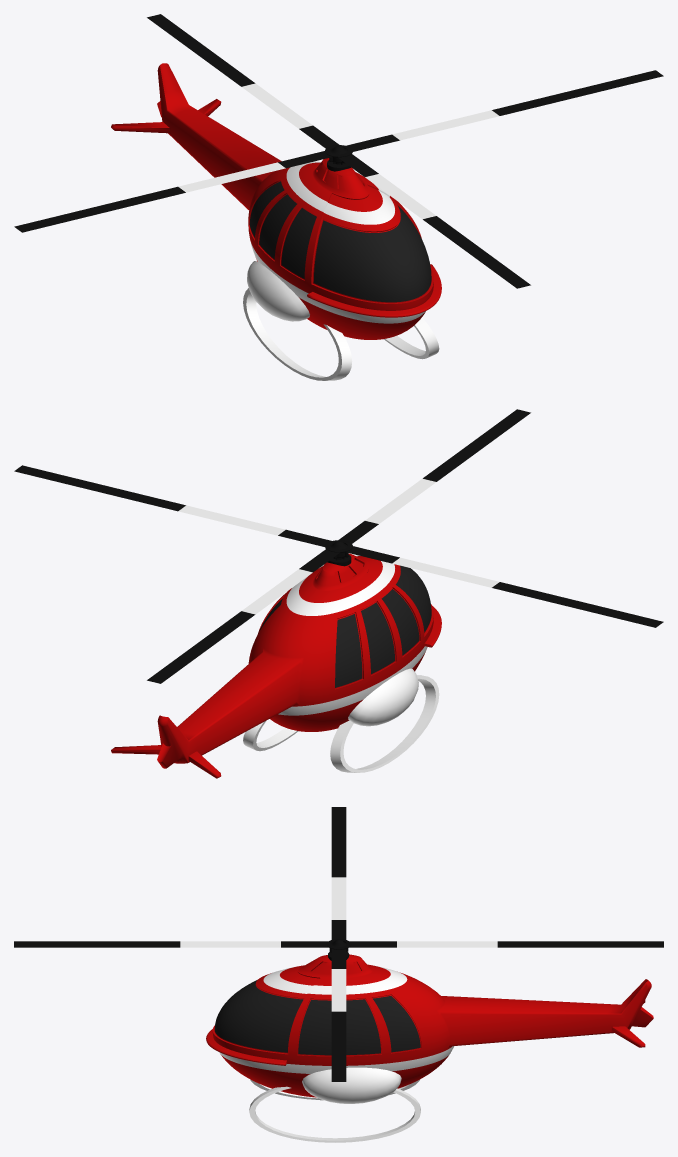
File: Helicopter.fbx
3 views of the same model, one above another, from view 1: azimuth 30°, elevation 25°; view 2: azimuth 150°, elevation 25°; view 3: azimuth 270°, elevation 25° (orthographic). The views are drawn at different scales.
Parts seen in each view (by area): view 1: Helicopter, Blades; view 2: Helicopter, Blades; view 3: Helicopter, Blades.
Part boxes in pixels (x1,y1,x2,y2): Helicopter: [111, 63, 441, 380]; Blades: [14, 14, 663, 288]; Helicopter: [111, 553, 441, 778]; Blades: [14, 409, 663, 683]; Helicopter: [206, 952, 653, 1142]; Blades: [14, 807, 663, 1081].
Size of what is drawn, in the model's own units: 1394 by 427 by 1394.
